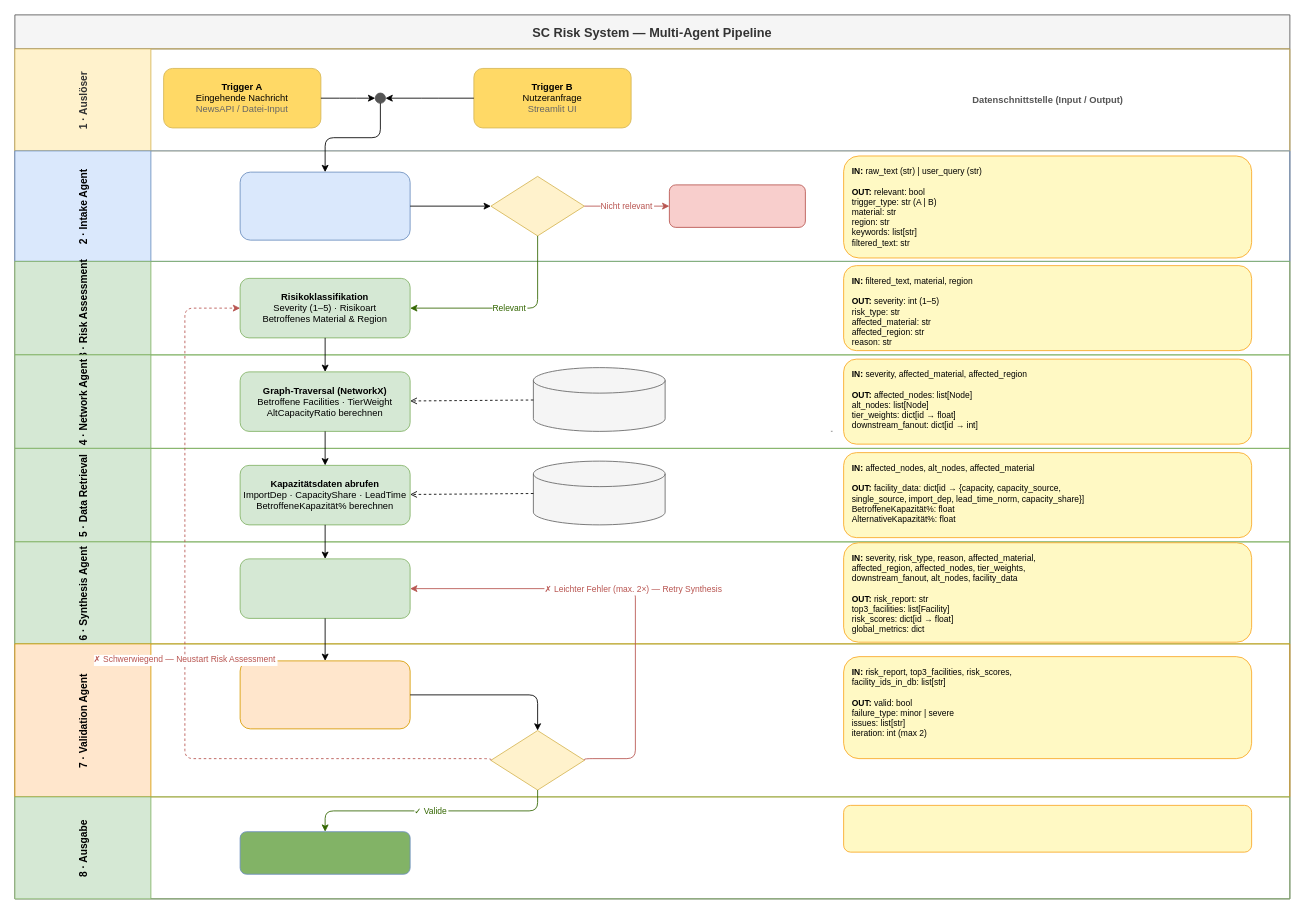
Image size: 1305x914. Some labels were removed from this diagram. Here are the shapes that lost their labels. From the top down, the centre of each, then its label:
At (324,205): "Nachrichtenfilterung Relevanzprüfung Material & Region extrahieren".
At (537,206): "Relevant?".
At (737,205): "Verwerfen / Hinweis ausgeben".
At (599,399): "Knowledge Graph knowledge_graph.json".
At (599,492): "NAATBatt DB facilities_clean.csv".
At (324,588): "Risikobericht generieren RiskScore · Top-3 Ranking".
At (324,694): "Validierung Quellencheck · EntityPrecision Begründungslogik".
At (537,760): "Valide?".
At (1047,828): "IN: risk_report (validated, str) Rendering via Streamlit".
At (324,852): "Risikobericht (Streamlit Dashboard)".
